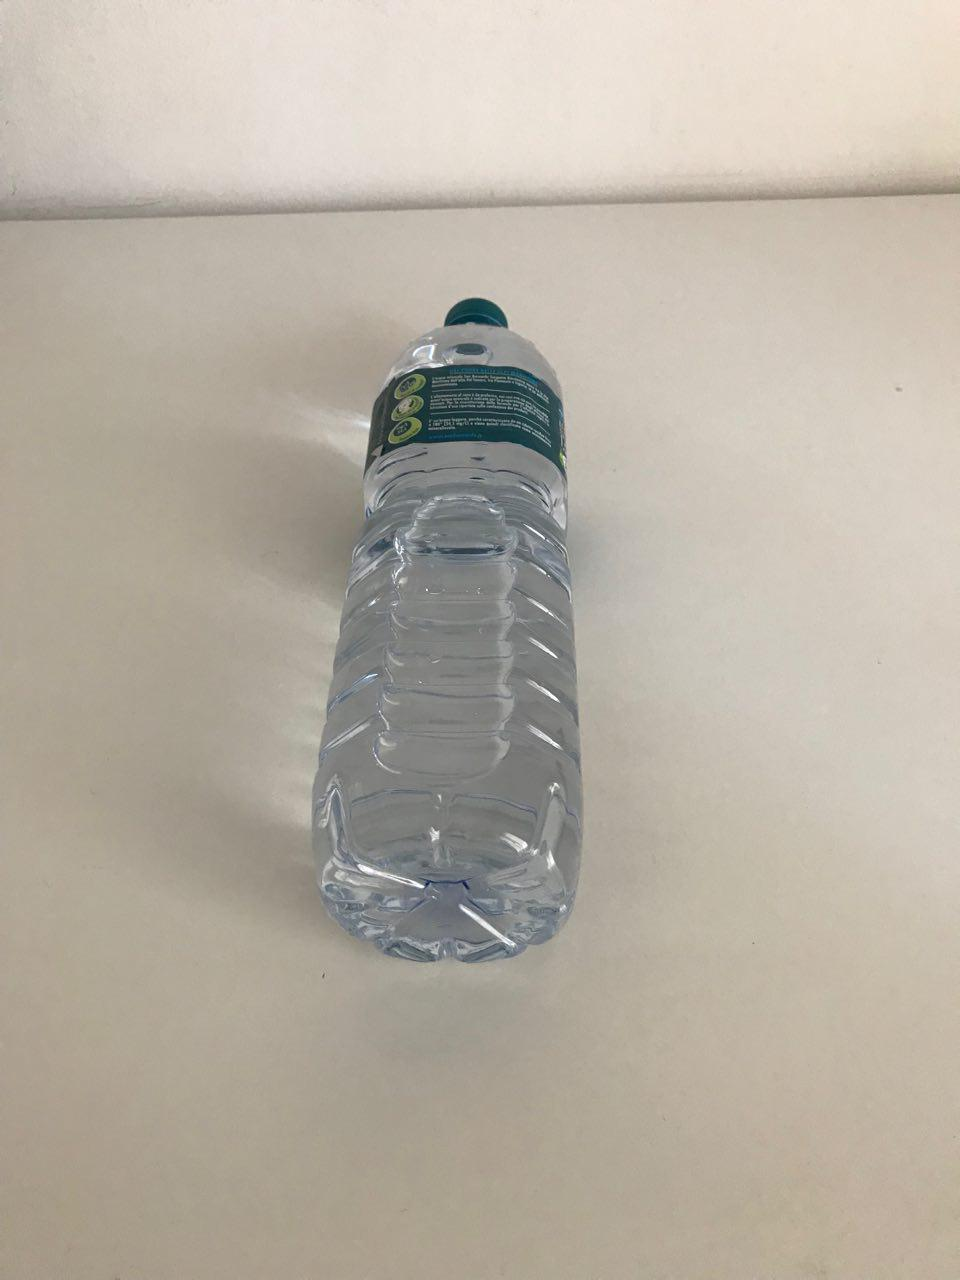san_bernardo: (307, 295, 586, 965)
